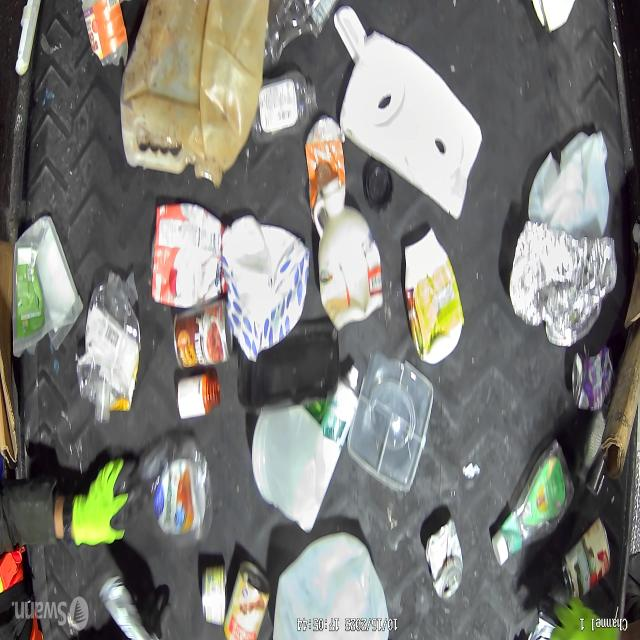can: (104, 434, 215, 545), (173, 298, 233, 372), (561, 517, 611, 599), (226, 558, 269, 640), (424, 518, 464, 604), (569, 354, 616, 409), (577, 415, 608, 497)
milk_jug: (272, 518, 384, 640), (254, 411, 331, 528), (534, 128, 612, 226)
non_white_jug: (121, 0, 255, 174)
plastic_bottle: (492, 440, 574, 567), (77, 271, 141, 425), (247, 81, 318, 141)
